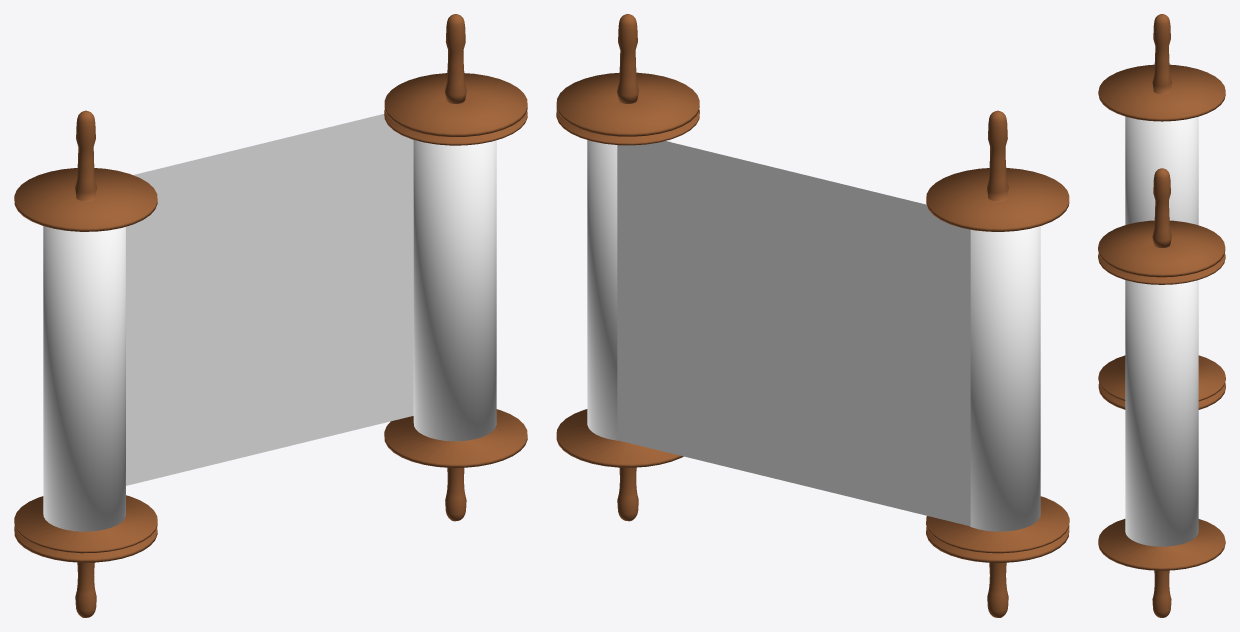
The model's file is toyrah.gltf.
3 renders of one model, left to right at view 1: azimuth 30°, elevation 25°; view 2: azimuth 150°, elevation 25°; view 3: azimuth 270°, elevation 25°, orthographic. The views are drawn at different scales.
Parts seen in each view (by area): view 1: giveel, Cylinder.029, Cylinder.032, Cylinder.031, Cylinder.030; view 2: Plane.014, Cylinder.029, Cylinder.030, Cylinder.031, Cylinder.032, giveel; view 3: Cylinder.032, Cylinder.031, Cylinder.030, Cylinder.029.
Part boxes in pixels (<box>): giveel: <box>126,115,413,485</box>; Cylinder.029: <box>43,226,125,531</box>; Cylinder.032: <box>413,140,496,441</box>; Cylinder.031: <box>384,14,527,521</box>; Cylinder.030: <box>14,110,157,617</box>; Plane.014: <box>617,142,970,526</box>; Cylinder.029: <box>970,226,1040,531</box>; Cylinder.030: <box>926,110,1069,617</box>; Cylinder.031: <box>556,14,699,521</box>; Cylinder.032: <box>587,140,670,440</box>; giveel: <box>659,141,927,208</box>; Cylinder.032: <box>1125,280,1198,546</box>; Cylinder.031: <box>1098,168,1225,617</box>; Cylinder.030: <box>1098,14,1225,409</box>; Cylinder.029: <box>1125,116,1198,225</box>.
Bounding box in the file's own units: 19.26 × 19.03 × 4.86.
